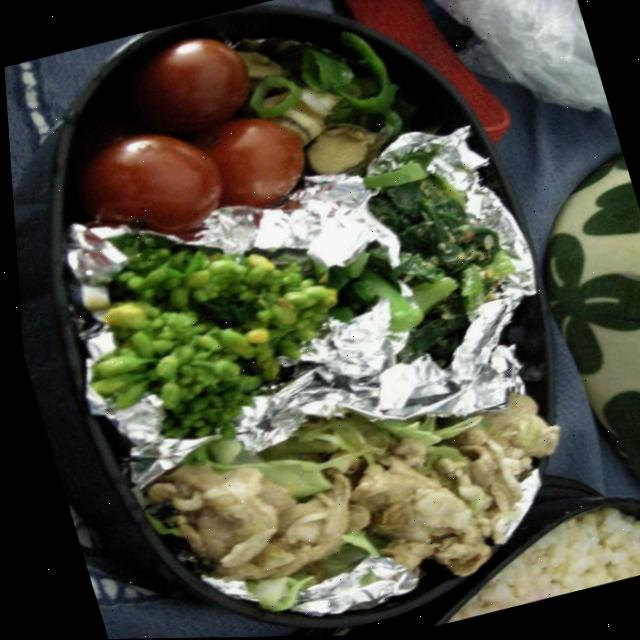蔬菜料理: (45, 131, 625, 640)
